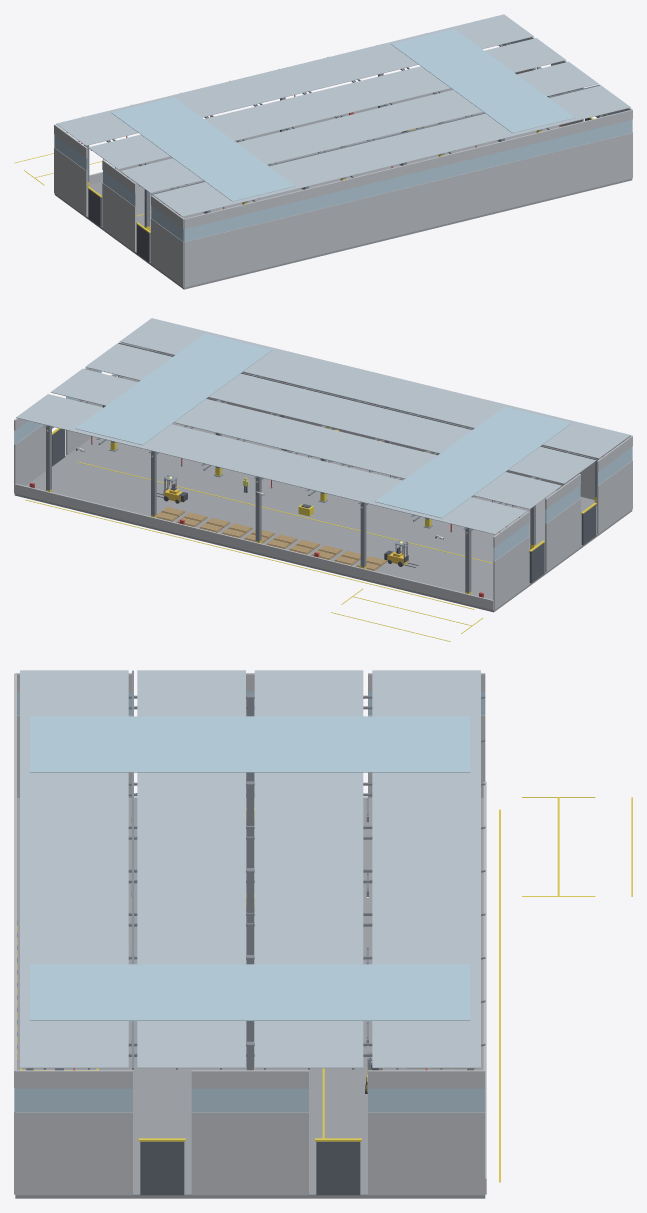
Rendered from production-hall-v4.glb.
3 renders of one model, top to bottom at view 1: azimuth 30°, elevation 25°; view 2: azimuth 150°, elevation 25°; view 3: azimuth 270°, elevation 25°, orthographic. The views are drawn at different scales.
Parts seen in each view (by area): view 1: GEO-ph_roof, GEO-ph_wall, GEO-ph_glass, GEO-ph_concrete, GEO-ph_steel, GEO-ph_dark; view 2: GEO-ph_roof, GEO-ph_concrete, GEO-ph_glass, GEO-ph_wall, GEO-ph_steel, GEO-ph_wood, GEO-ph_mark, GEO-ph_dark, GEO-ph_yellow; view 3: GEO-ph_roof, GEO-ph_glass, GEO-ph_wall, GEO-ph_concrete, GEO-ph_dark, GEO-ph_steel, GEO-ph_mark.
Boxes of the visible parts, x1,y1,x2,y2 form: GEO-ph_roof: (56, 14, 630, 216); GEO-ph_wall: (54, 37, 632, 287); GEO-ph_glass: (54, 29, 632, 241); GEO-ph_concrete: (54, 112, 632, 289); GEO-ph_steel: (66, 33, 602, 233); GEO-ph_dark: (88, 96, 590, 262); GEO-ph_roof: (16, 318, 630, 534); GEO-ph_concrete: (14, 422, 632, 612); GEO-ph_glass: (14, 333, 632, 561); GEO-ph_wall: (14, 342, 632, 610); GEO-ph_steel: (44, 342, 623, 592); GEO-ph_wood: (157, 507, 387, 570); GEO-ph_mark: (25, 461, 493, 641); GEO-ph_dark: (52, 405, 596, 583); GEO-ph_yellow: (45, 426, 596, 594); GEO-ph_roof: (20, 670, 480, 1068); GEO-ph_glass: (14, 691, 485, 1112); GEO-ph_wall: (14, 673, 486, 1195); GEO-ph_concrete: (15, 797, 485, 1198); GEO-ph_dark: (55, 1068, 360, 1195); GEO-ph_steel: (17, 670, 485, 1070); GEO-ph_mark: (20, 797, 632, 1182).
Size of the model in its own units: 64.26 by 9.9 by 42.16.
